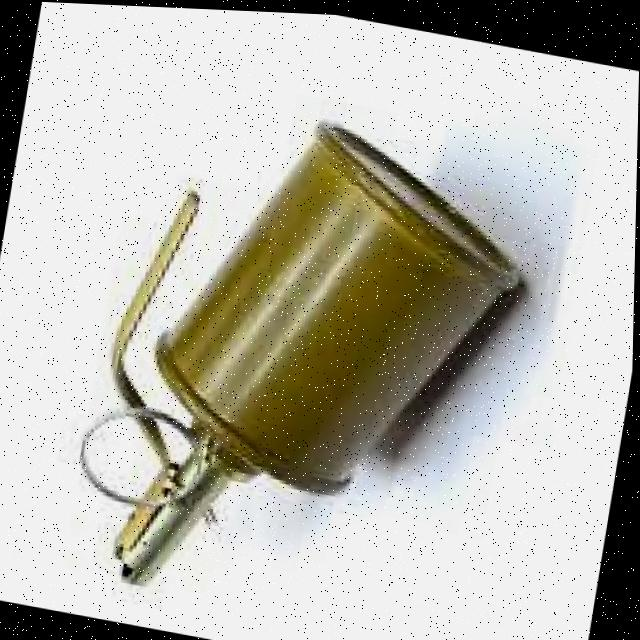grenade: (71, 79, 548, 640)
